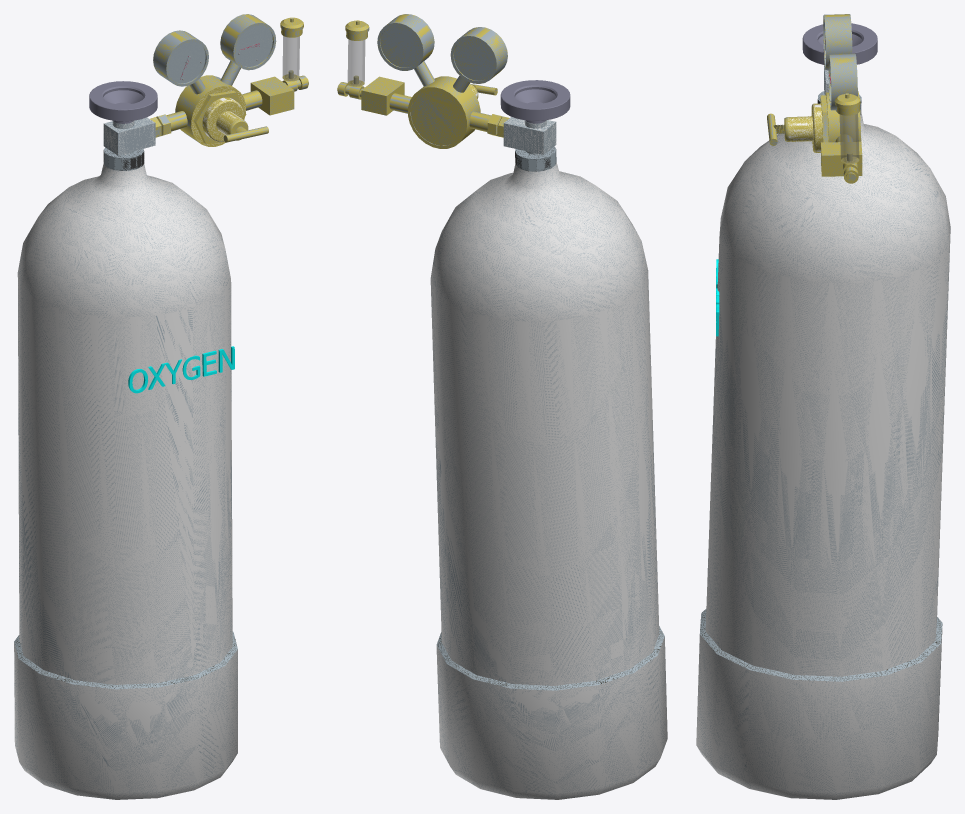
The model's file is Oxygen.fbx.
3 renders of one model, left to right at view 1: azimuth 30°, elevation 25°; view 2: azimuth 150°, elevation 25°; view 3: azimuth 270°, elevation 25°, orthographic. The views are drawn at different scales.
Parts seen in each view (by area): view 1: Group1, ske18C1, Group6, Group5, BOUTET_handwheel_9880, Group4, OXYGEN_1_1; view 2: Group1, ske18C1, Group6, Group5, BOUTET_handwheel_9880, Group4; view 3: Group1, ske18C1, Group4, BOUTET_handwheel_9880, Group6, Group5.
Part boxes in pixels (x1=…): Group1: x1=14, y1=117, x2=237, y2=799; ske18C1: x1=150, y1=75, x2=268, y2=146; Group6: x1=220, y1=14, x2=276, y2=85; Group5: x1=153, y1=30, x2=208, y2=94; BOUTET_handwheel_9880: x1=89, y1=81, x2=157, y2=123; Group4: x1=250, y1=29, x2=308, y2=115; OXYGEN_1_1: x1=128, y1=346, x2=234, y2=393; Group1: x1=430, y1=117, x2=667, y2=799; ske18C1: x1=389, y1=76, x2=509, y2=148; Group6: x1=377, y1=14, x2=434, y2=86; Group5: x1=450, y1=27, x2=507, y2=92; BOUTET_handwheel_9880: x1=500, y1=80, x2=570, y2=123; Group4: x1=337, y1=32, x2=404, y2=115; Group1: x1=696, y1=65, x2=950, y2=799; ske18C1: x1=767, y1=90, x2=861, y2=152; Group4: x1=821, y1=105, x2=862, y2=183; BOUTET_handwheel_9880: x1=802, y1=23, x2=877, y2=64; Group6: x1=828, y1=53, x2=857, y2=111; Group5: x1=823, y1=14, x2=852, y2=70.
Size of the model in its own units: 0.3229 by 0.7449 by 0.223.
